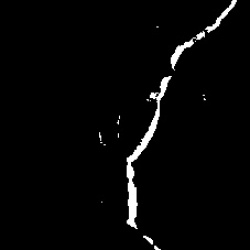crack: (127, 2, 237, 245), (118, 116, 122, 143), (98, 132, 105, 145)
